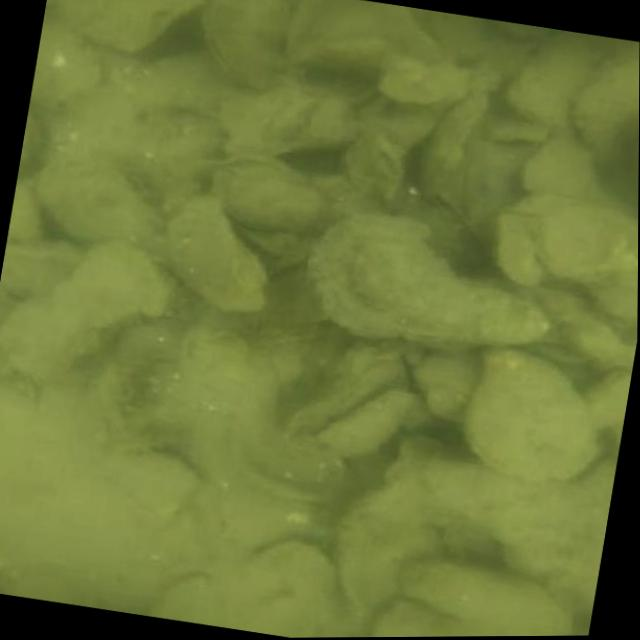Oyster-Closed: (201, 0, 295, 94), (69, 0, 208, 49), (318, 390, 419, 454), (291, 39, 393, 77)
Oyster-Indeterminate: (302, 210, 555, 343), (459, 344, 600, 482), (401, 562, 576, 636), (171, 206, 274, 321), (34, 162, 172, 245), (488, 198, 632, 273), (225, 83, 361, 155), (505, 30, 596, 134), (214, 163, 335, 236), (574, 51, 640, 148), (524, 141, 605, 199), (495, 220, 547, 286)
